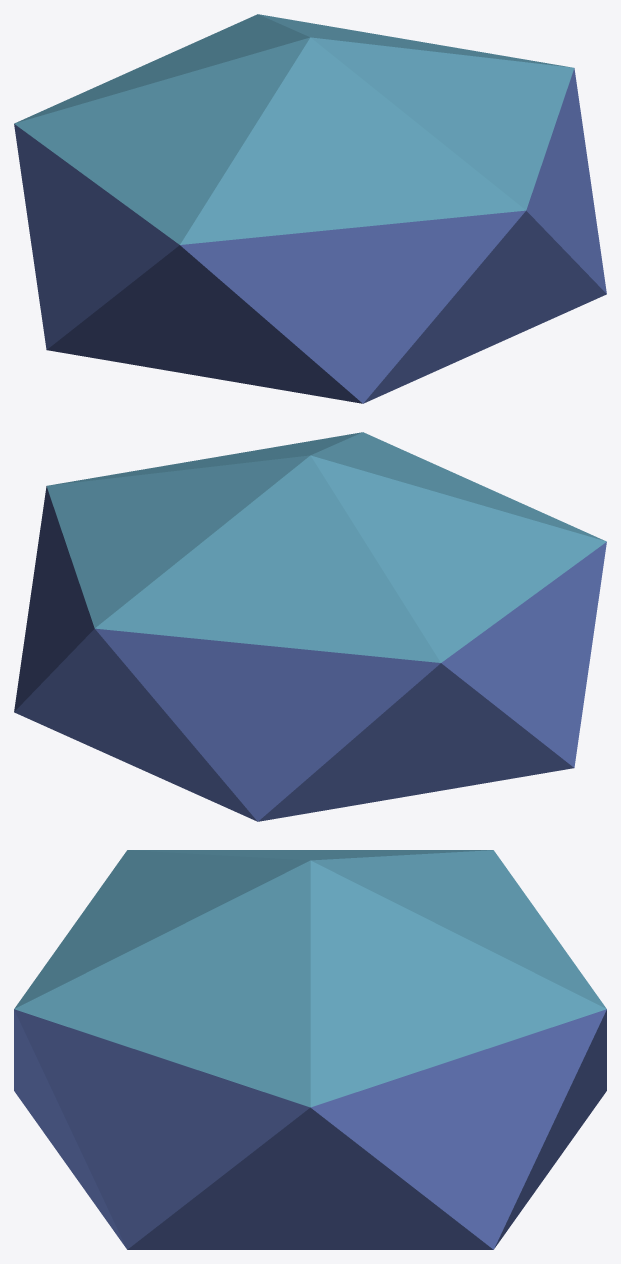
File: npc_module_hair_0_v01.glb
The picture shows the model from 3 angles, top to bottom: view 1: azimuth 30°, elevation 25°; view 2: azimuth 150°, elevation 25°; view 3: azimuth 270°, elevation 25°; orthographic projection. The views are drawn at different scales.
Parts seen in each view (by area): view 1: GEO_npc_module_hair_0_v01; view 2: GEO_npc_module_hair_0_v01; view 3: GEO_npc_module_hair_0_v01.
Boxes of the visible parts, x1,y1,x2,y2 form: GEO_npc_module_hair_0_v01: [14, 14, 606, 403]; GEO_npc_module_hair_0_v01: [14, 432, 606, 821]; GEO_npc_module_hair_0_v01: [14, 850, 606, 1249].
Bounding box in the file's own units: 0.966 × 0.6 × 0.8506.
